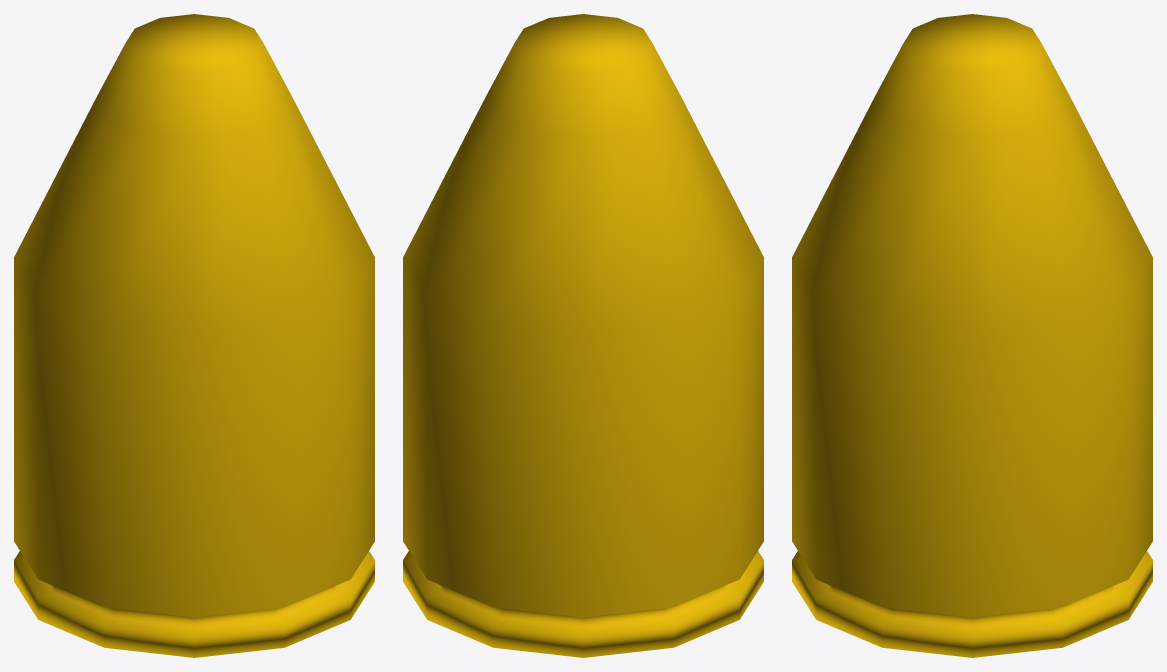
File: MS_MortarShell.fbx
The picture shows the model from 3 angles, left to right: view 1: azimuth 30°, elevation 25°; view 2: azimuth 150°, elevation 25°; view 3: azimuth 270°, elevation 25°; orthographic projection.
Parts seen in each view (by area): view 1: pCylinder1; view 2: pCylinder1; view 3: pCylinder1.
Boxes of the visible parts, x1,y1,x2,y2 form: pCylinder1: [14, 14, 374, 657]; pCylinder1: [403, 14, 763, 657]; pCylinder1: [792, 14, 1152, 657].
Size of the model in its own units: 4.04 by 6.65 by 4.04.
